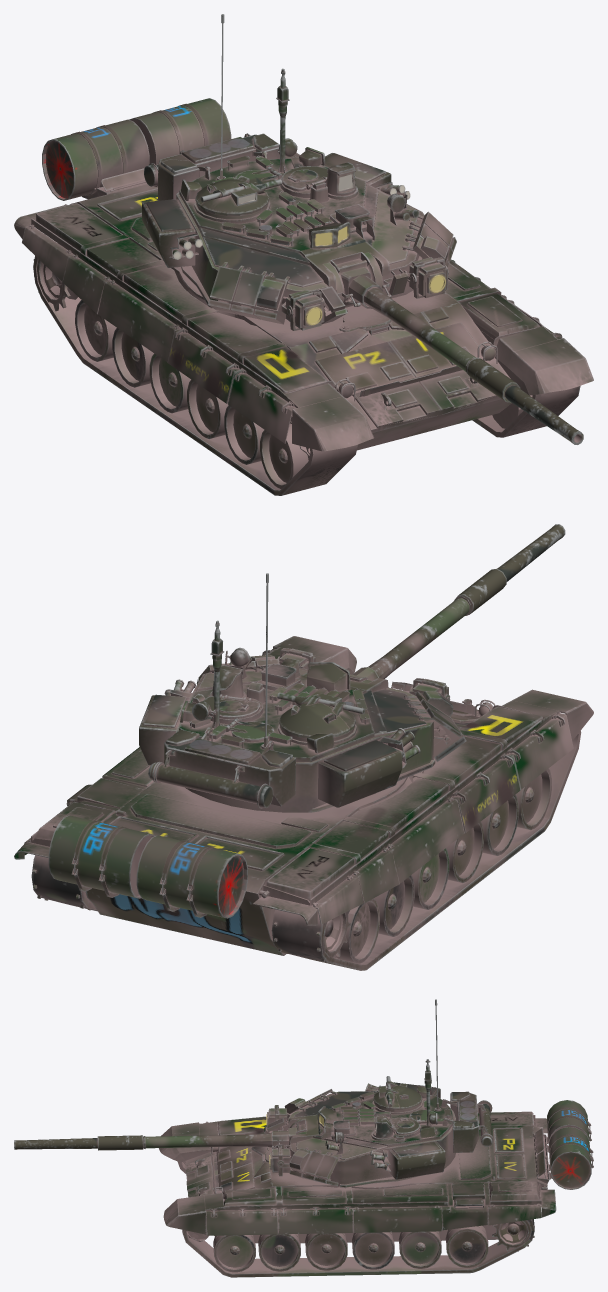
File: tank2.glb
3 views of the same model, one above another, from view 1: azimuth 30°, elevation 25°; view 2: azimuth 150°, elevation 25°; view 3: azimuth 270°, elevation 25° (orthographic). The views are drawn at different scales.
Parts seen in each view (by area): view 1: Object_3, Object_4, Object_2; view 2: Object_3, Object_4, Object_2; view 3: Object_3, Object_4, Object_2.
Part boxes in pixels (x1,y1,x2,y2): Object_3: (14, 98, 593, 488); Object_4: (142, 14, 583, 444); Object_2: (33, 174, 580, 495); Object_3: (14, 636, 593, 963); Object_4: (139, 524, 565, 812); Object_2: (31, 713, 581, 970); Object_3: (159, 1100, 593, 1272); Object_4: (14, 999, 493, 1187); Object_2: (177, 1096, 534, 1277).
Bounding box in the file's own units: 196 × 211 × 493.
Materials: 1 (1 with a texture image).
